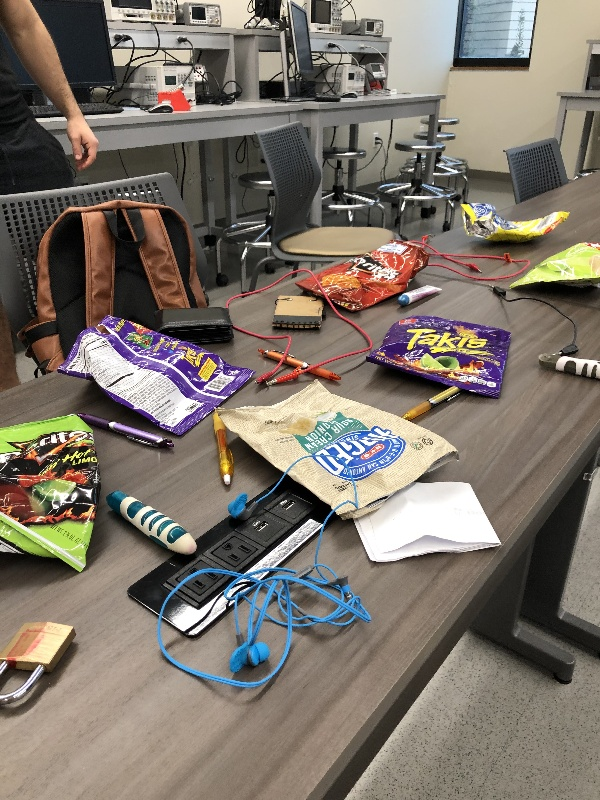bag: (210, 379, 464, 525), (53, 308, 262, 442), (1, 409, 97, 578), (365, 315, 516, 401), (296, 238, 434, 316), (454, 197, 576, 248), (507, 236, 600, 292)
